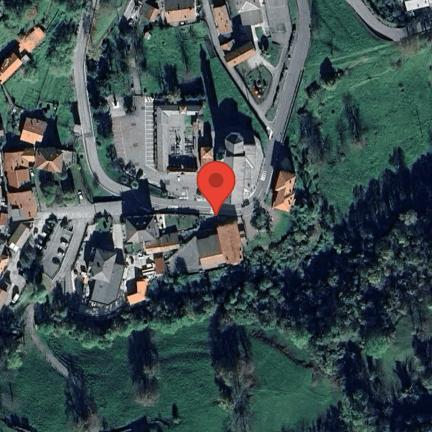area_open: (108, 106, 159, 171), (163, 108, 200, 175), (89, 247, 127, 305), (37, 220, 74, 275)
built: (0, 19, 50, 90), (199, 220, 245, 266), (158, 212, 242, 236), (123, 208, 161, 252), (0, 225, 34, 273), (220, 33, 261, 64), (272, 170, 298, 217), (1, 151, 34, 186), (10, 190, 43, 222), (159, 0, 198, 24), (36, 147, 68, 175), (23, 116, 50, 145), (209, 0, 233, 30)
vegetation_high: (226, 159, 432, 430), (34, 262, 245, 348), (86, 20, 140, 98), (210, 328, 247, 414), (45, 21, 79, 77), (132, 339, 161, 401), (64, 359, 96, 413), (2, 307, 25, 367), (1, 408, 37, 432)
vegetation_low: (287, 0, 431, 203), (147, 26, 266, 138), (164, 327, 229, 432), (254, 338, 317, 432), (79, 351, 137, 426), (8, 358, 61, 432), (8, 81, 78, 119), (0, 3, 63, 38)
